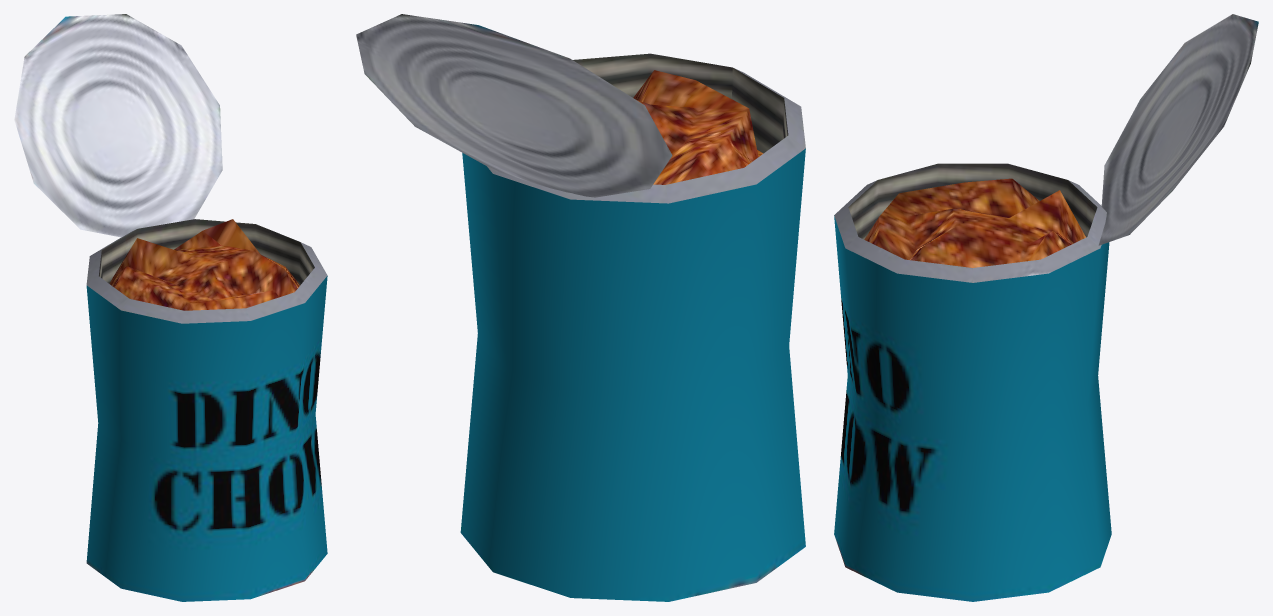
Rendered from dinochow.FBX.
The picture shows the model from 3 angles, left to right: view 1: azimuth 30°, elevation 25°; view 2: azimuth 150°, elevation 25°; view 3: azimuth 270°, elevation 25°; orthographic projection. The views are drawn at different scales.
Visible parts, largest first — view 1: Cylinder002; view 2: Cylinder002; view 3: Cylinder002.
Part boxes in pixels (<box>): Cylinder002: <box>14,14,327,601</box>; Cylinder002: <box>356,14,805,601</box>; Cylinder002: <box>834,14,1258,601</box>.
Size of the model in its own units: 96.03 by 198 by 148.
